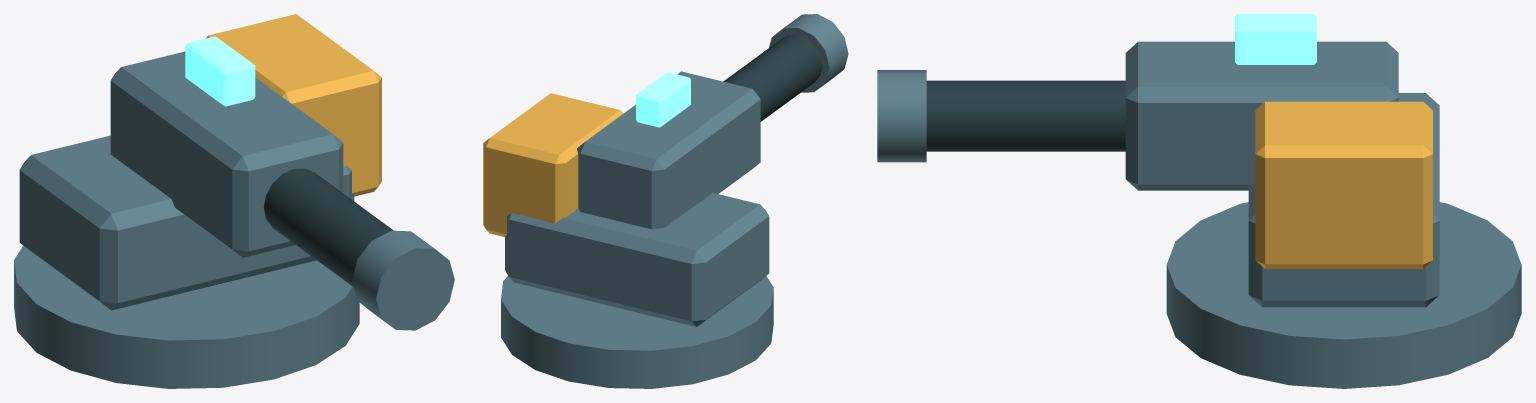
The model's file is convoy-gun.glb.
3 views of the same model, side by side, from view 1: azimuth 30°, elevation 25°; view 2: azimuth 150°, elevation 25°; view 3: azimuth 270°, elevation 25° (orthographic). The views are drawn at different scales.
Visible parts, largest first — view 1: Roof mount, Gun receiver, Mechanism, Ammo case, Barrel sleeve, Muzzle brake, Sight; view 2: Mechanism, Roof mount, Gun receiver, Ammo case, Barrel sleeve, Muzzle brake, Sight; view 3: Roof mount, Ammo case, Gun receiver, Barrel sleeve, Mechanism, Muzzle brake, Sight.
Boxes of the visible parts, left/top/right/bottom form: Roof mount: left=14, top=245, right=359, bottom=388; Gun receiver: left=110, top=51, right=343, bottom=257; Mechanism: left=19, top=135, right=354, bottom=310; Ammo case: left=206, top=14, right=381, bottom=196; Barrel sleeve: left=263, top=168, right=393, bottom=286; Muzzle brake: left=352, top=230, right=454, bottom=330; Sight: left=185, top=36, right=255, bottom=106; Mechanism: left=505, top=193, right=769, bottom=326; Roof mount: left=501, top=276, right=773, bottom=388; Gun receiver: left=577, top=71, right=760, bottom=229; Ammo case: left=483, top=93, right=623, bottom=236; Barrel sleeve: left=723, top=35, right=822, bottom=121; Muzzle brake: left=769, top=14, right=848, bottom=92; Sight: left=636, top=72, right=690, bottom=127; Roof mount: left=1166, top=202, right=1521, bottom=388; Ammo case: left=1255, top=101, right=1432, bottom=268; Gun receiver: left=1125, top=41, right=1398, bottom=190; Barrel sleeve: left=926, top=80, right=1125, bottom=151; Mechanism: left=1248, top=93, right=1439, bottom=307; Muzzle brake: left=877, top=70, right=926, bottom=162; Sight: left=1235, top=14, right=1316, bottom=64.
Size of the model in its own units: 1.32 by 1.19 by 2.36.
